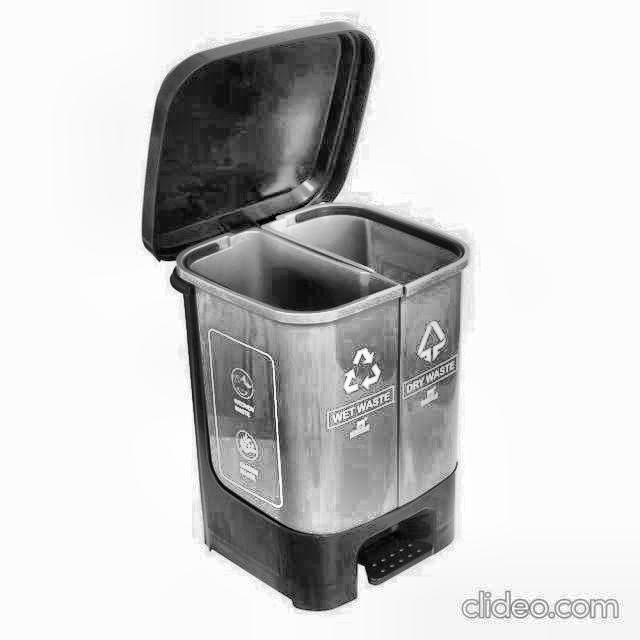Dustbin: (128, 41, 534, 624)
